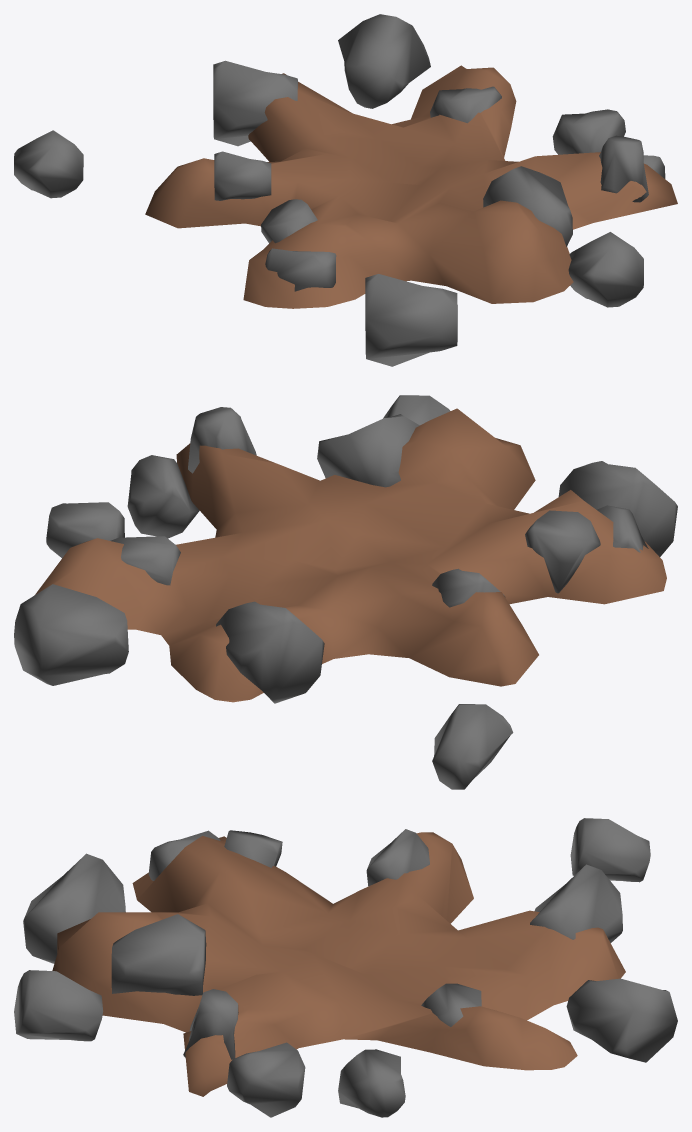
Rendered from BombDebris.fbx.
The picture shows the model from 3 angles, top to bottom: view 1: azimuth 30°, elevation 25°; view 2: azimuth 150°, elevation 25°; view 3: azimuth 270°, elevation 25°; orthographic projection. The views are drawn at different scales.
Visible parts, largest first — view 1: Cube.001; view 2: Cube.001; view 3: Cube.001.
Boxes of the visible parts, x1,y1,x2,y2 form: Cube.001: (14, 14, 677, 366); Cube.001: (14, 395, 677, 789); Cube.001: (14, 818, 677, 1117).
Size of the model in its own units: 4.88 by 1.17 by 5.15.
